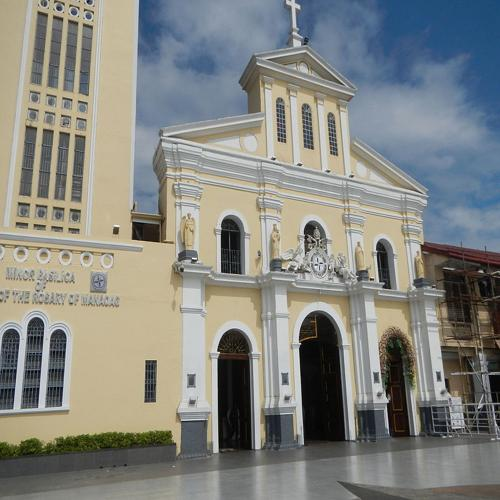Manaoag Church: (2, 1, 446, 451)
